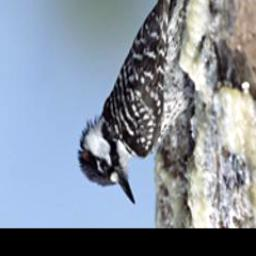Woodpecker: (77, 0, 226, 213)
